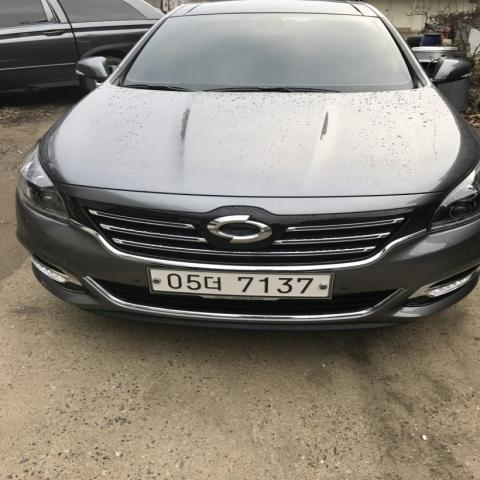LP: (145, 256, 339, 306)
